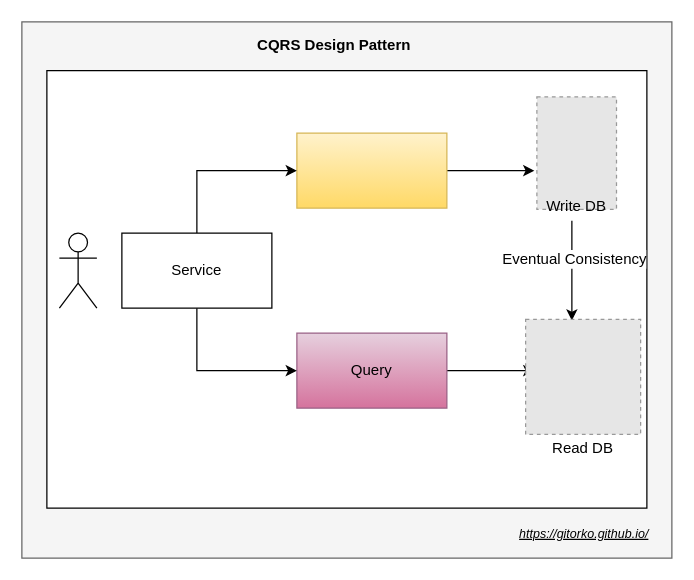
This 694x580 diagram has some shape labels left out. Grey dashed boxes stand in for pictures. The shapes that lost their labels are listed below. From the top down, each one's centre as x and y in pixels, then its label:
point 371,170: Command
point 77,270: Actor
